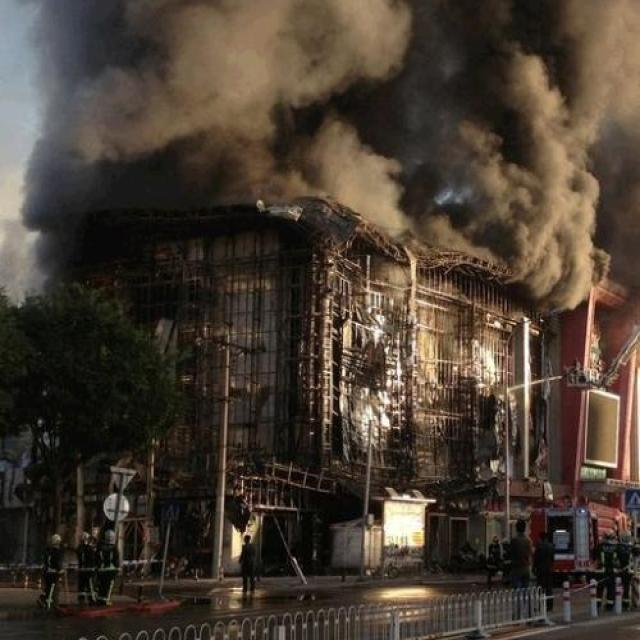Smoke: (20, 1, 640, 316)
